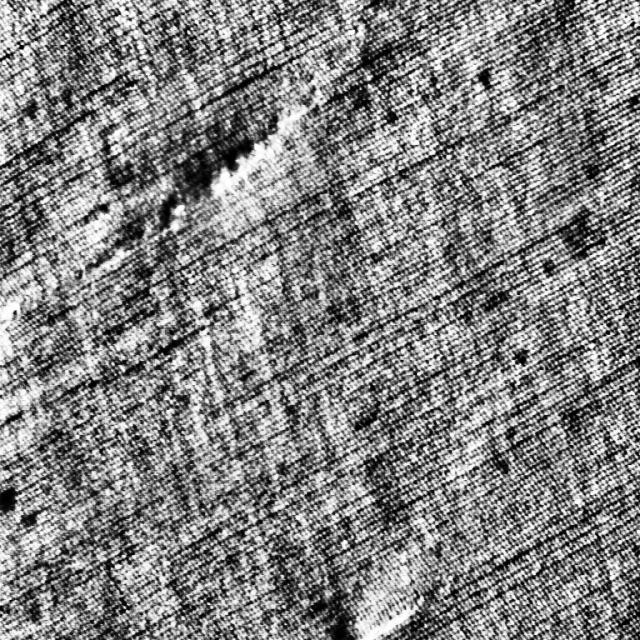Stitch: (144, 99, 311, 248)
